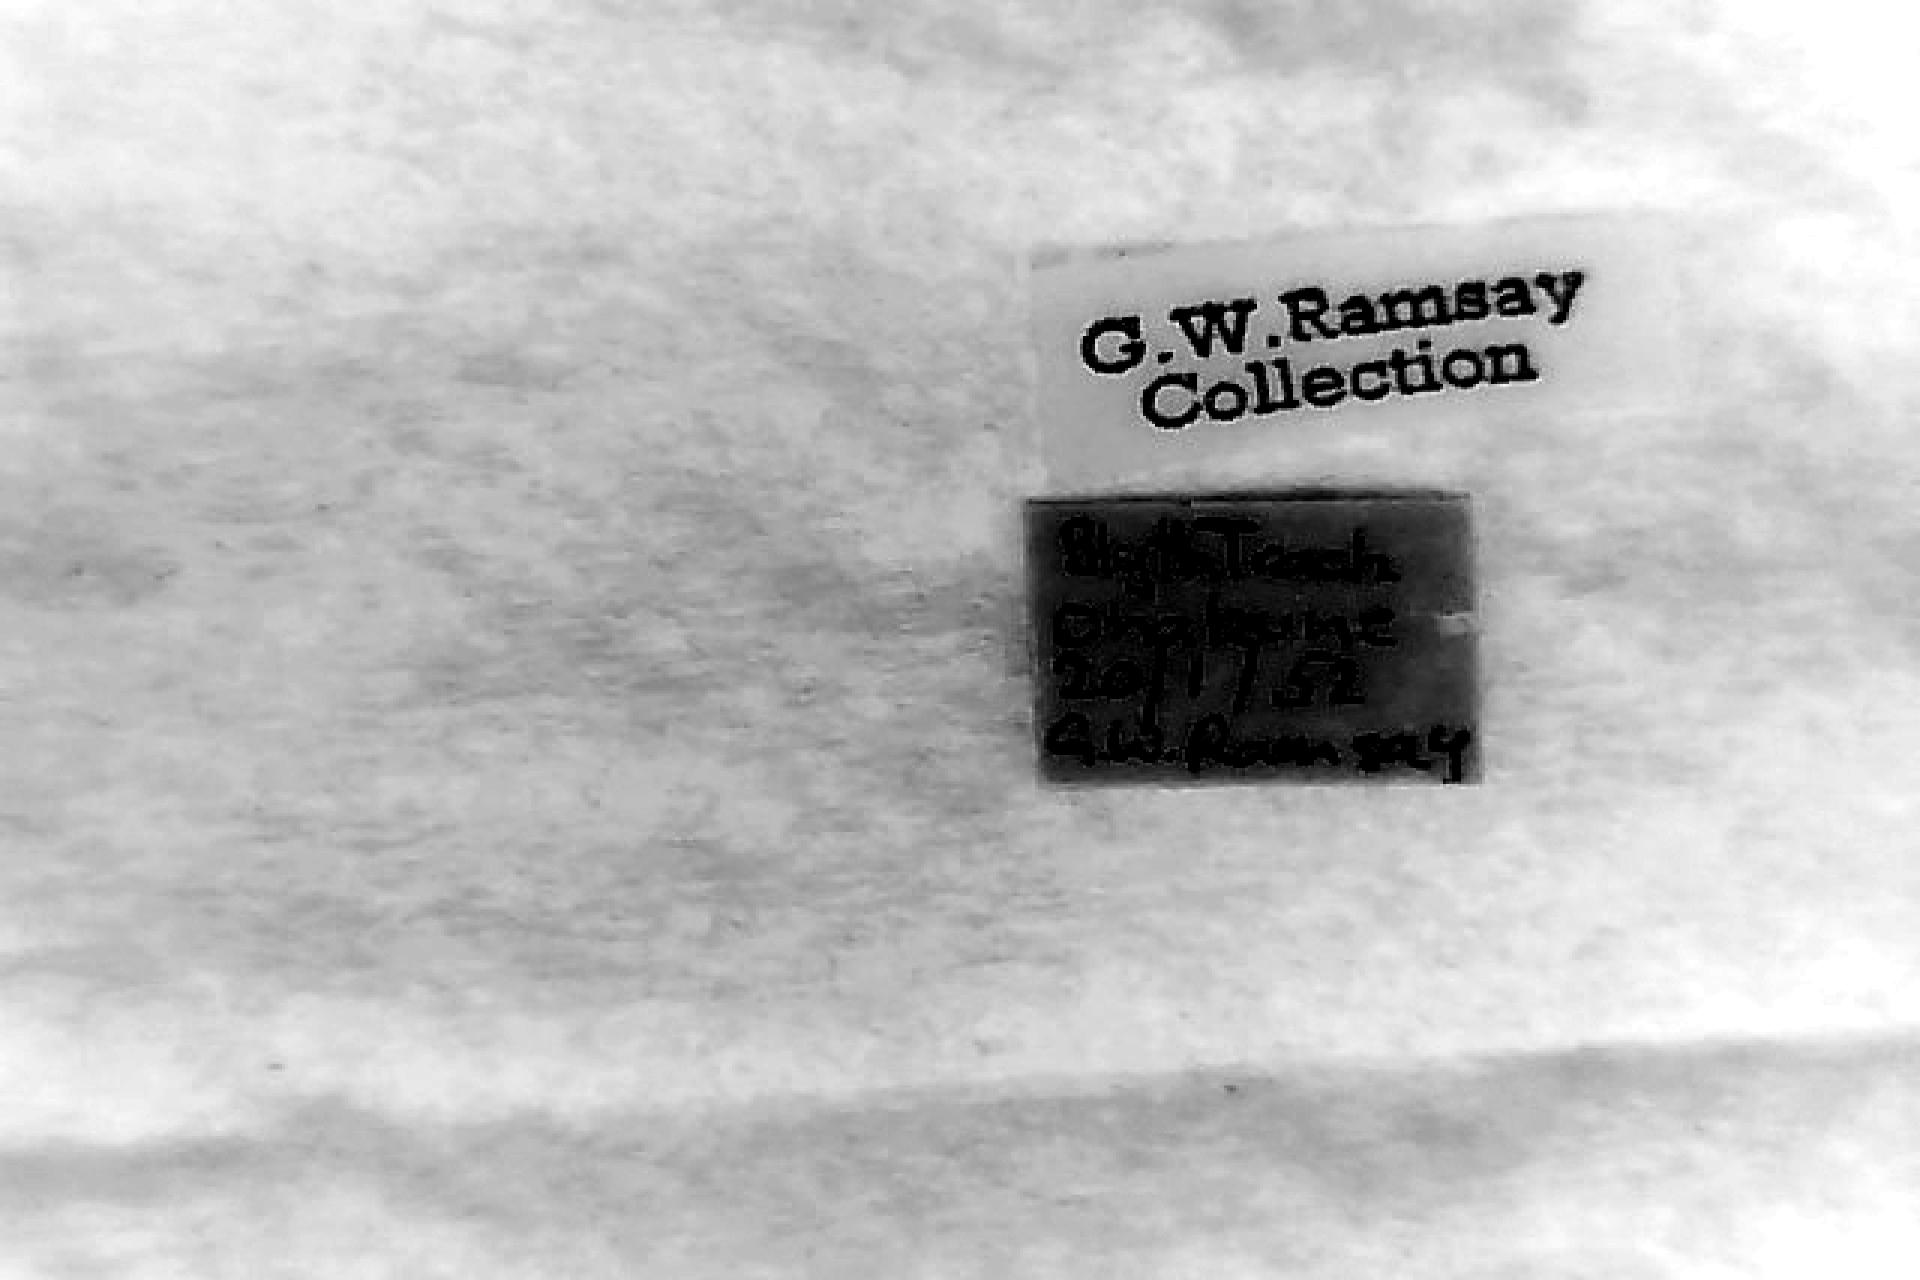hand_label: (1030, 503, 1476, 787)
typed_label: (1040, 217, 1687, 480)
